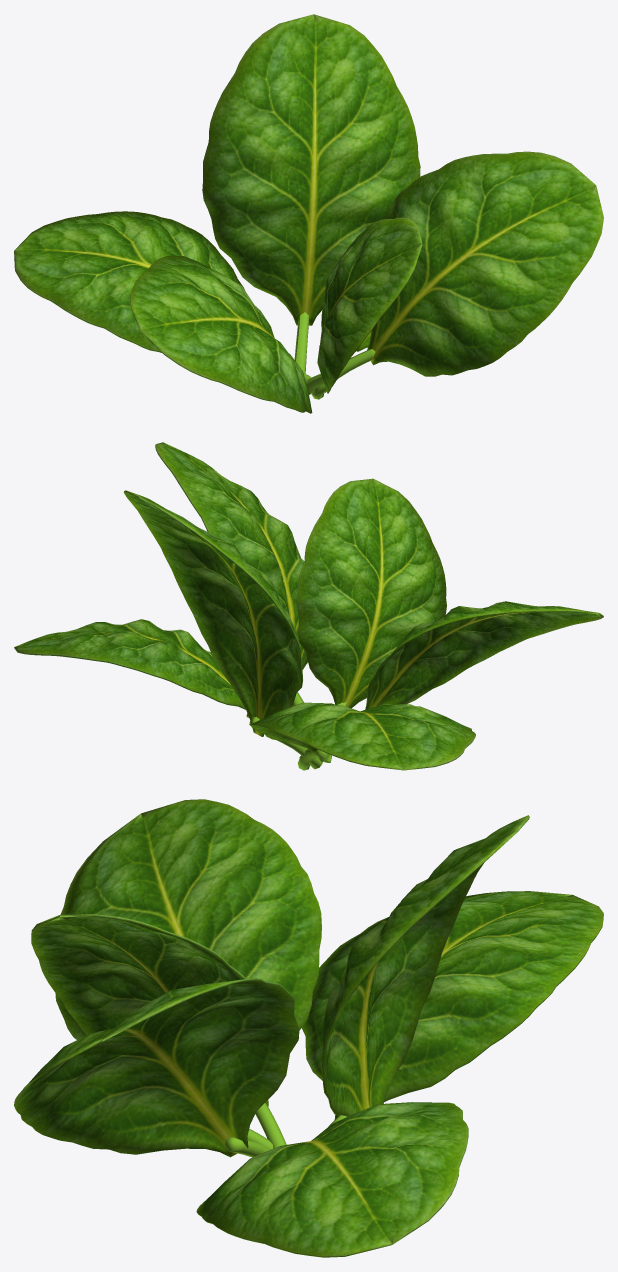
Rendered from NP_Spinach_LeafGrowth.fbx.
3 views of the same model, one above another, from view 1: azimuth 30°, elevation 25°; view 2: azimuth 150°, elevation 25°; view 3: azimuth 270°, elevation 25° (orthographic). The views are drawn at different scales.
Visible parts, largest first — view 1: NP_Spinach_LeafGrowth; view 2: NP_Spinach_LeafGrowth; view 3: NP_Spinach_LeafGrowth.
Part boxes in pixels (x1=…): NP_Spinach_LeafGrowth: x1=14, y1=14, x2=603, y2=413; NP_Spinach_LeafGrowth: x1=14, y1=442, x2=603, y2=770; NP_Spinach_LeafGrowth: x1=14, y1=799, x2=603, y2=1257.
Size of the model in its own units: 61.17 by 36.78 by 47.7.
